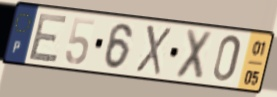0: (211, 33, 243, 85)
5: (64, 16, 98, 67)
6: (103, 21, 136, 71)
E: (26, 12, 70, 64)
X: (172, 26, 215, 83), (133, 23, 173, 78)
